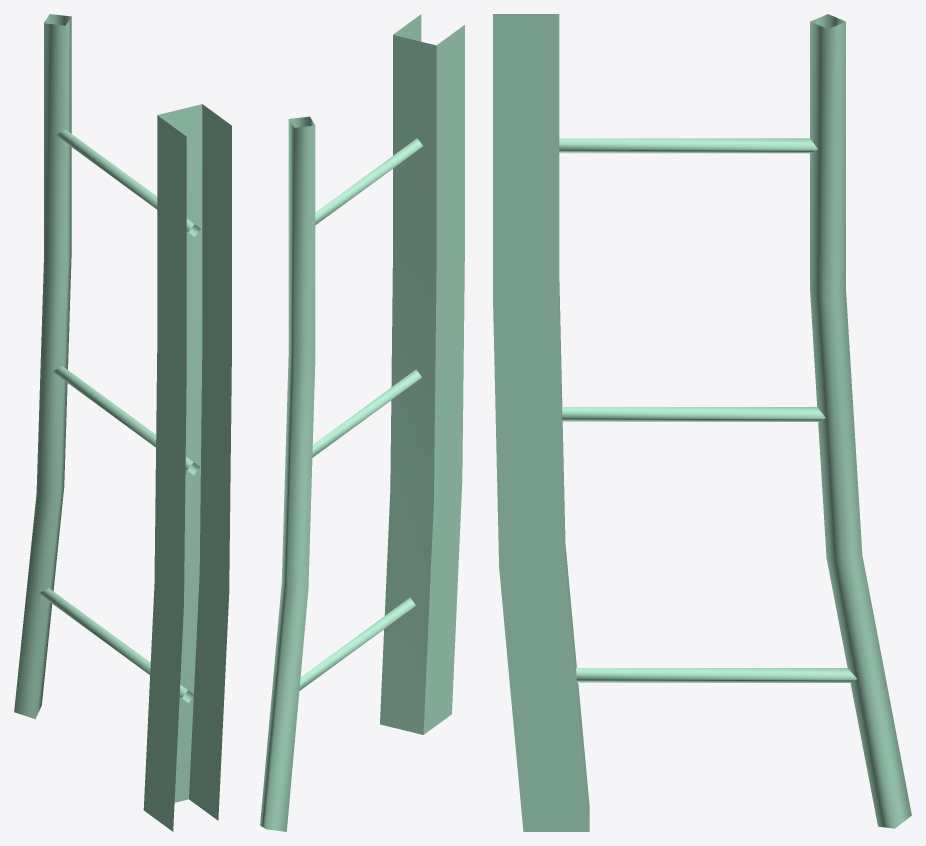
The picture shows the model from 3 angles, left to right: view 1: azimuth 30°, elevation 25°; view 2: azimuth 150°, elevation 25°; view 3: azimuth 270°, elevation 25°; orthographic projection. The views are drawn at different scales.
Parts seen in each view (by area): view 1: Object14; view 2: Object14; view 3: Object14.
Boxes of the visible parts, bbox=[...] form: Object14: bbox=[14, 14, 231, 831]; Object14: bbox=[260, 14, 464, 831]; Object14: bbox=[493, 14, 911, 831].
Bounding box in the file's own units: 2013 × 30449 × 14357.
